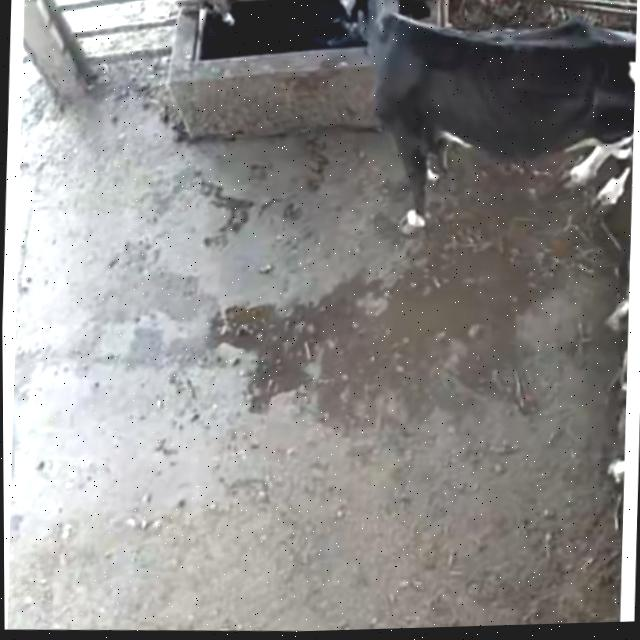drink: (318, 0, 456, 127)
